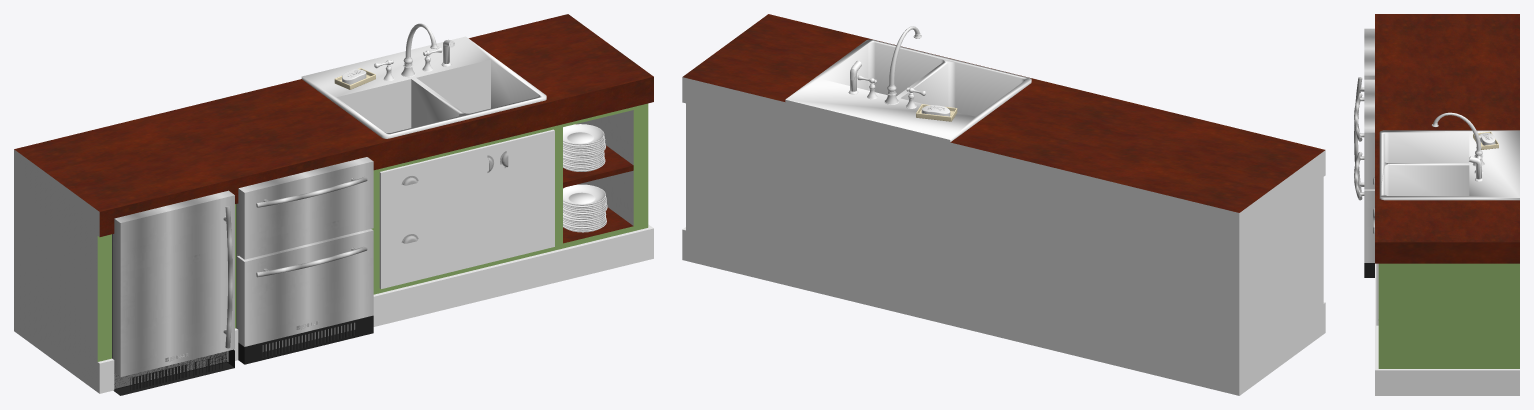
Rendered from sink.min.dae.
3 renders of one model, left to right at view 1: azimuth 30°, elevation 25°; view 2: azimuth 150°, elevation 25°; view 3: azimuth 270°, elevation 25°, orthographic. The views are drawn at different scales.
Visible parts, largest first — view 1: Model, Group_4_2, Group_4, Group_3, Group_2, Group_4_1 (×3), Group_2_1, Dinner_Plate (×2), Group_1_1, Group_1; view 2: Model, centre; view 3: Model, Group_3, Group_4_1 (×3), Group_4, Group_4_2, centre, handheld, Group2, Group_2.
Part boxes in pixels (x1,y1,x2,y2): Model: [14, 14, 653, 393]; Group_4_2: [113, 190, 234, 376]; Group_4: [237, 229, 373, 346]; Group_3: [237, 157, 373, 259]; Group_2: [238, 315, 373, 364]; Group_4_1 (×3): [223, 176, 367, 348]; Group_2_1: [113, 349, 234, 395]; Dinner_Plate (×2): [563, 124, 605, 205]; Group_1_1: [112, 234, 227, 388]; Group_1: [236, 204, 355, 351]; Model: [682, 14, 1325, 395]; centre: [884, 26, 921, 104]; Model: [1375, 14, 1519, 395]; Group_3: [1364, 79, 1374, 189]; Group_4_1 (×3): [1354, 77, 1364, 200]; Group_4: [1364, 189, 1374, 262]; Group_4_2: [1364, 28, 1374, 79]; centre: [1431, 112, 1484, 166]; handheld: [1469, 156, 1482, 181]; Group2: [1479, 133, 1495, 145]; Group_2: [1364, 263, 1374, 277].
Bounding box in the file's own units: 115 × 35.19 × 48.76.
Materials: 13 (4 with a texture image).
